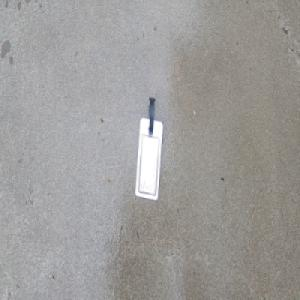LuggageTag: (133, 96, 164, 201)
